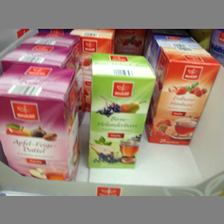tea: (1, 64, 80, 180), (87, 53, 156, 169), (147, 48, 221, 146)
